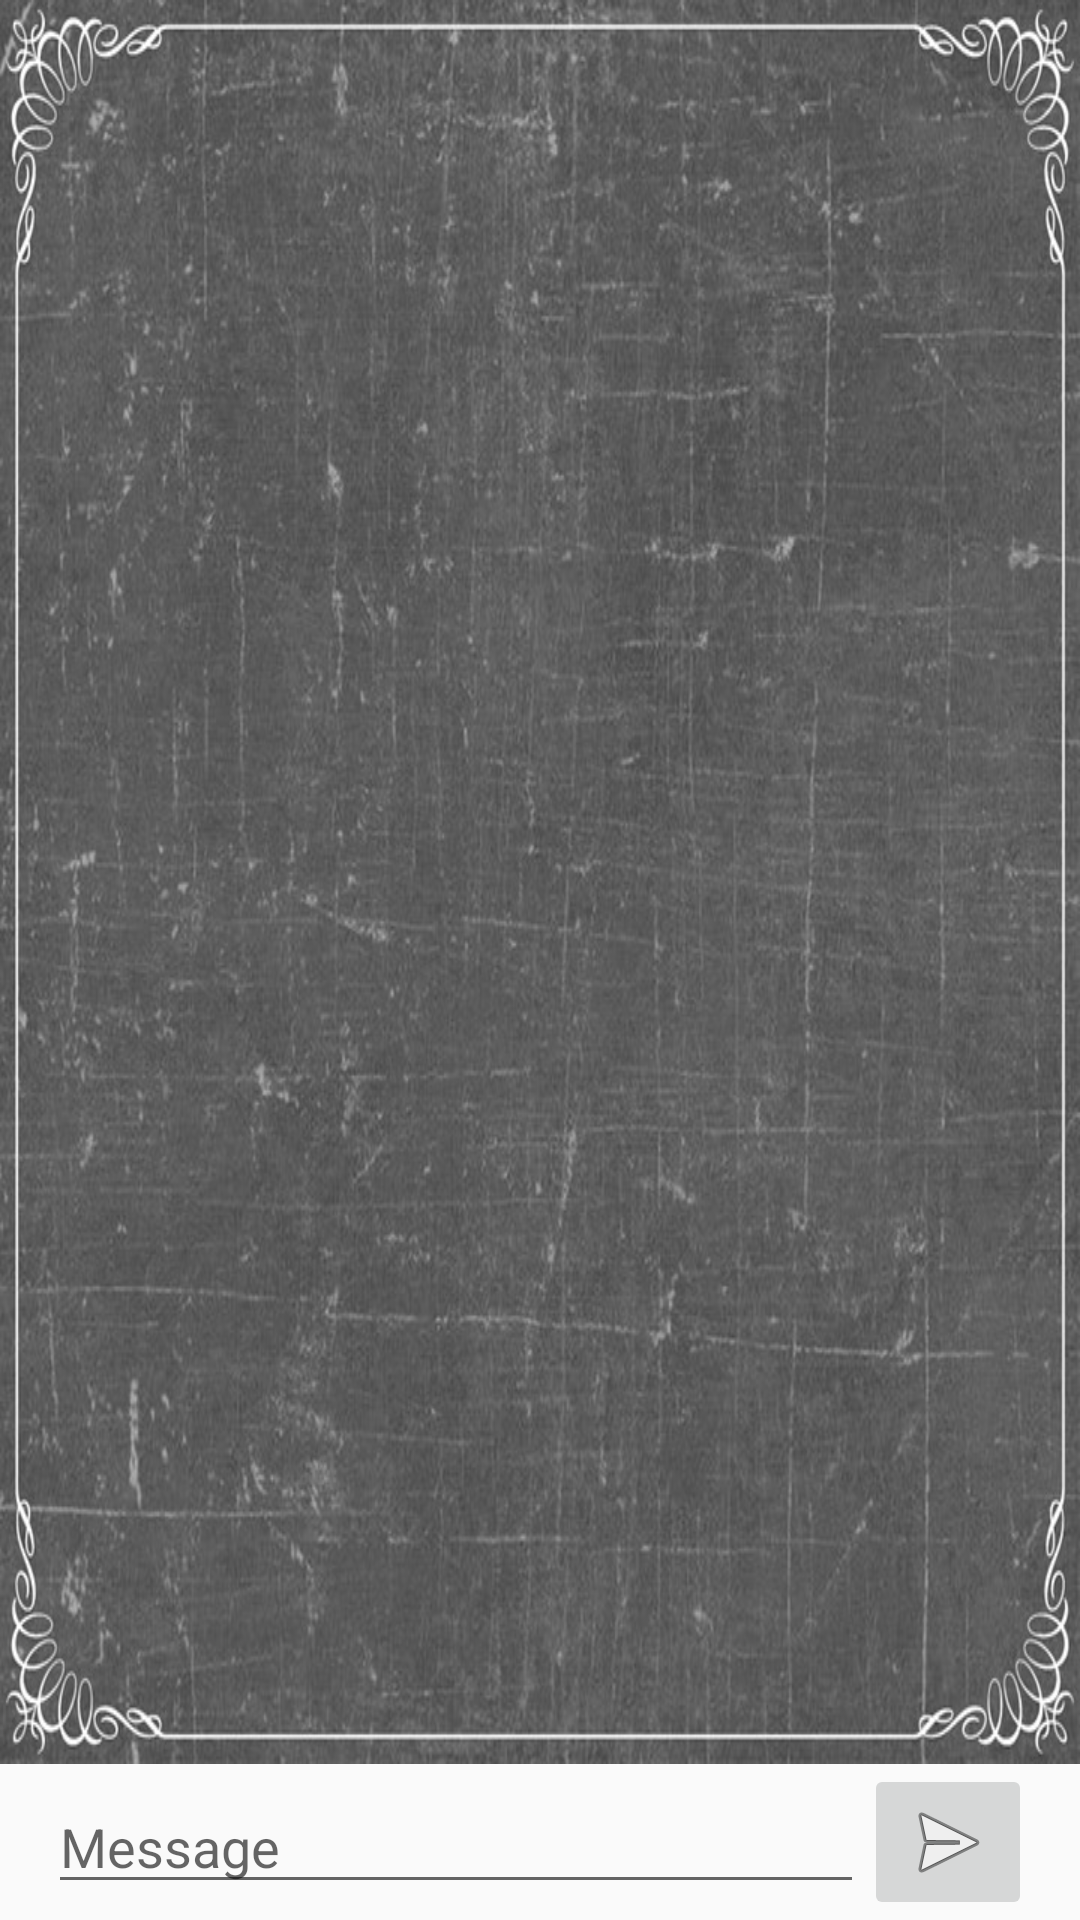

Where to tap for icons on this 1080 x 1920 app screen, as (x,y):
Send: (948,1842)
